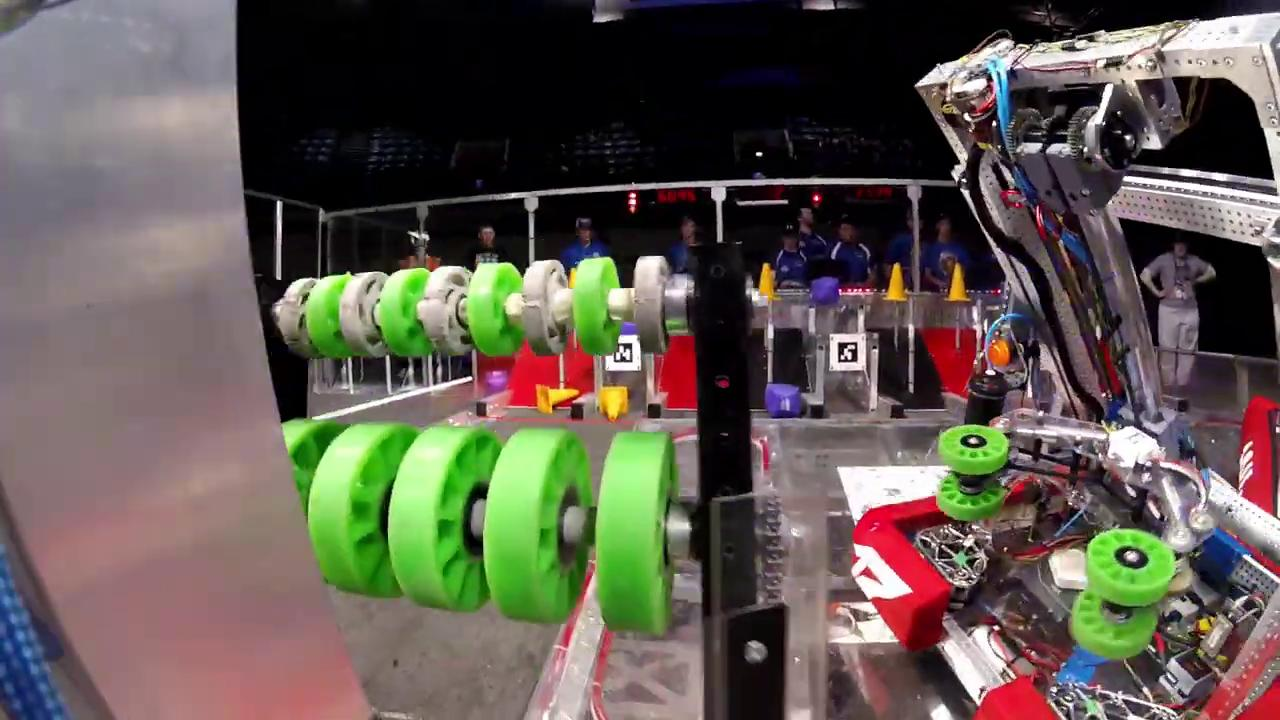robot: (849, 16, 1280, 720), (1231, 380, 1280, 537)
